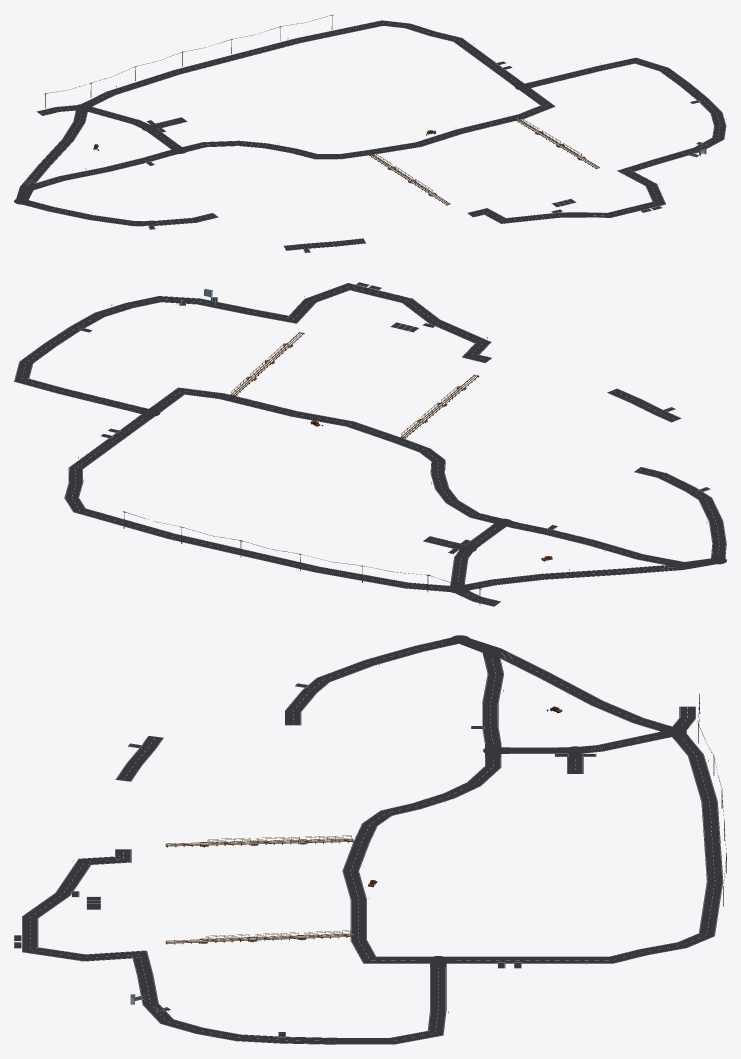
Rendered from tf-roads-p4.glb.
3 views of the same model, one above another, from view 1: azimuth 30°, elevation 25°; view 2: azimuth 150°, elevation 25°; view 3: azimuth 270°, elevation 25° (orthographic). The views are drawn at different scales.
Parts seen in each view (by area): view 1: tf-roads-p4; view 2: tf-roads-p4; view 3: tf-roads-p4.
Part boxes in pixels (x1,y1,x2,y2): tf-roads-p4: [14, 14, 726, 252]; tf-roads-p4: [14, 282, 726, 606]; tf-roads-p4: [14, 635, 726, 1044].
Bounding box in the file's own units: 354 × 8.2 × 260.
